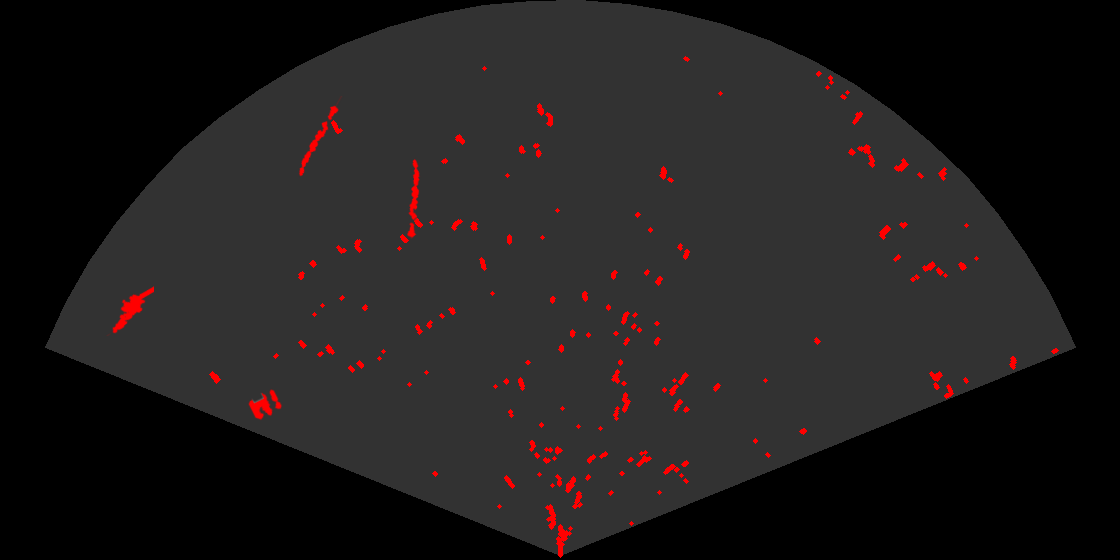ball: (247, 388, 284, 422)
chain: (297, 96, 344, 178), (406, 157, 422, 239)
frogman: (105, 286, 154, 336)
